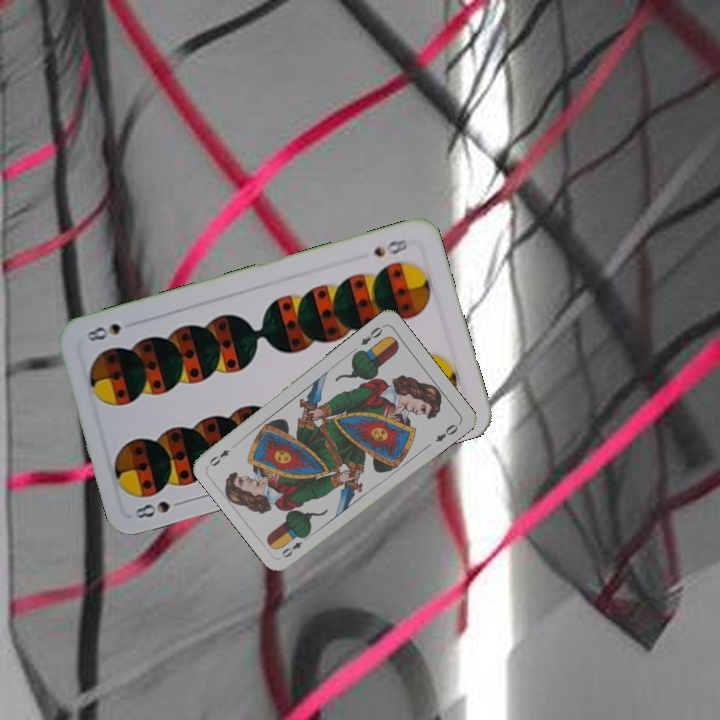EO: (277, 531, 312, 561), (356, 321, 387, 348)
S8: (130, 497, 173, 521), (369, 235, 410, 260)
